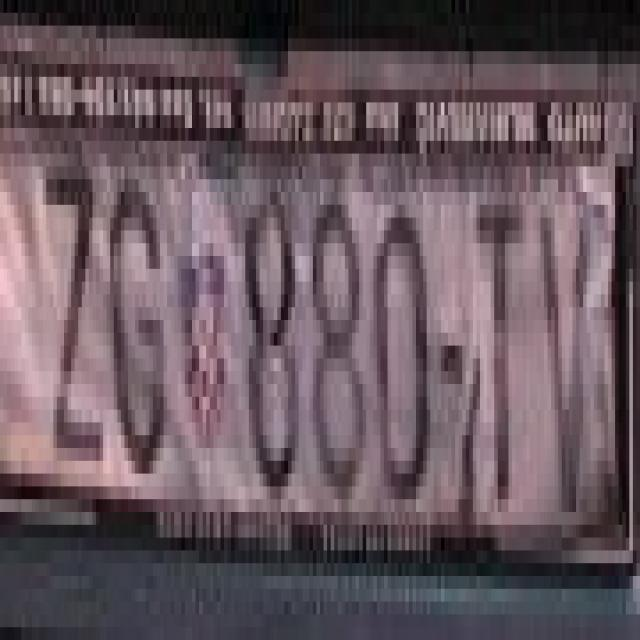0: (369, 205, 426, 512)
8: (313, 205, 367, 512), (245, 192, 295, 499)
G: (106, 192, 160, 474)
T: (469, 192, 526, 499)
V: (537, 179, 601, 512)
Z: (36, 154, 106, 460)
